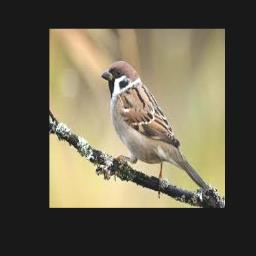Sparrow: (101, 61, 207, 195)
